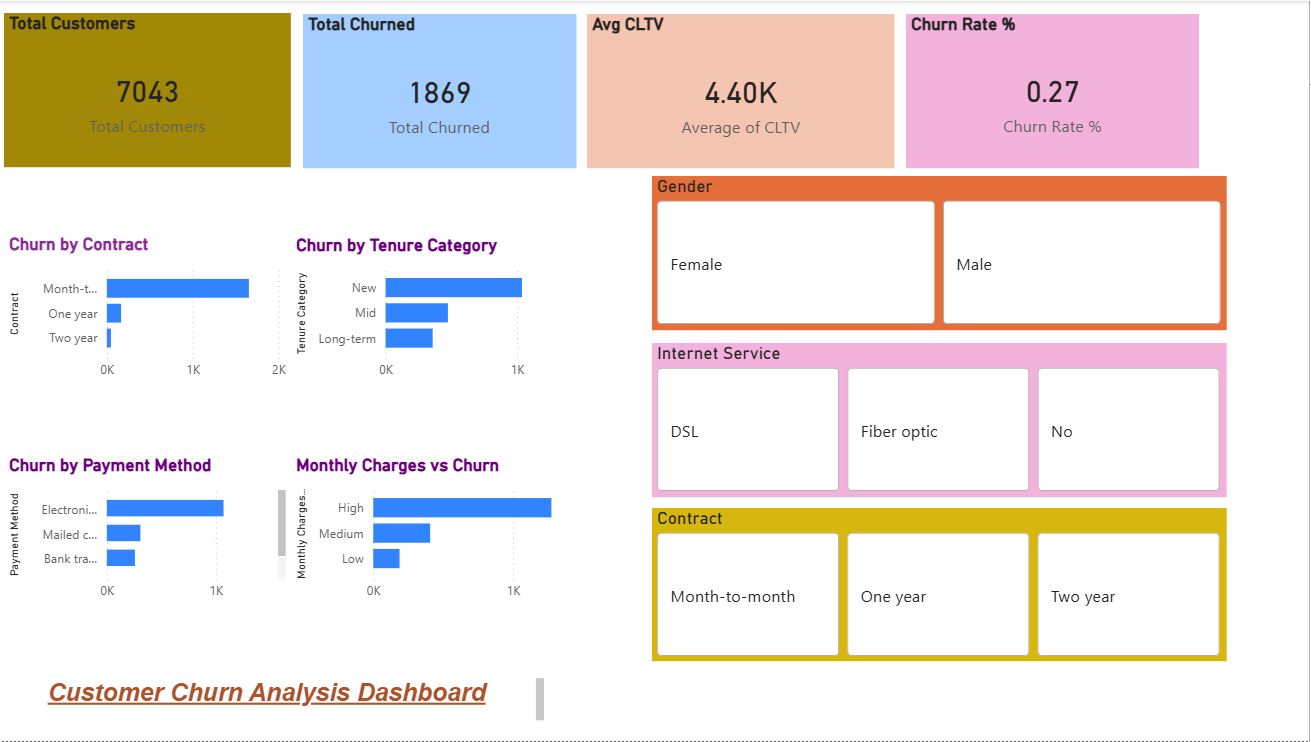

What the dashboard file says about the page in this screenshot:
{"tool":"powerbi","page":{"name":"Customer Churn Analysis Dashboard","canvas":[1280,720],"ordinal":0},"visuals":[{"type":"card","title":"Total Customers","fields":{"Values":["Telco_customer_churn_cleaned.Churn Rate %"]},"box":[11,12,279,150],"z":0},{"type":"barChart","title":"Churn by Contract","fields":{"Y":["Sum(Telco_customer_churn_cleaned.Churn Value)"],"Category":["Telco_customer_churn_cleaned.Contract"]},"box":[11,227,279,150],"z":2000},{"type":"barChart","title":"Churn by Payment Method","fields":{"Y":["Sum(Telco_customer_churn_cleaned.Churn Value)"],"Category":["Telco_customer_churn_cleaned.Payment Method"]},"box":[11,442,279,150],"z":3000},{"type":"barChart","title":"Churn by Tenure Category","fields":{"Y":["Sum(Telco_customer_churn_cleaned.Churn Value)"],"Category":["Telco_customer_churn_cleaned.Tenure Category"]},"box":[289.6,227.3,295.9,149.5],"z":4000},{"type":"barChart","title":"Monthly Charges vs Churn","fields":{"Category":["Telco_customer_churn_cleaned.Monthly Charges Category"],"Y":["Sum(Telco_customer_churn_cleaned.Churn Value)"]},"box":[290,442,296,150],"z":5000},{"type":"advancedSlicerVisual","fields":{"Values":["Telco_customer_churn_cleaned.Gender"]},"box":[641,170.3,559,149.7],"z":7000},{"type":"advancedSlicerVisual","fields":{"Values":["Telco_customer_churn_cleaned.Internet Service"]},"box":[641,332.3,559,149.7],"z":8000},{"type":"advancedSlicerVisual","fields":{"Values":["Telco_customer_churn_cleaned.Contract"]},"box":[640.5,493.1,558.5,149.5],"z":9000},{"type":"card","title":"Avg CLTV","fields":{"Values":["Avg(Telco_customer_churn_cleaned.CLTV)"]},"box":[577.4,12.3,299.5,149.7],"z":9001},{"type":"card","title":"Churn Rate %","fields":{"Values":["Telco_customer_churn_cleaned.Churn Rate %"]},"box":[888.2,12.3,285.1,149.7],"z":9002},{"type":"card","title":"Total Churned","fields":{"Values":["Telco_customer_churn_cleaned.Churn Rate %"]},"box":[301.5,12.3,265.6,149.7],"z":9003},{"type":"textbox","box":[0,653.3,540.5,53.3],"z":9004}]}

Visuals, with their boxes in screenshot pixels (x1, y1, x2, y2), scaled from the page's 1280x720 canvas onto the 1311x742 screenshot:
"Total Customers" card: bbox=(11, 12, 297, 167)
"Churn by Contract" barChart: bbox=(11, 234, 297, 389)
"Churn by Payment Method" barChart: bbox=(11, 456, 297, 610)
"Churn by Tenure Category" barChart: bbox=(297, 234, 600, 388)
"Monthly Charges vs Churn" barChart: bbox=(297, 456, 600, 610)
advancedSlicerVisual - Telco_customer_churn_cleaned.Gender: bbox=(657, 176, 1229, 330)
advancedSlicerVisual - Telco_customer_churn_cleaned.Internet Service: bbox=(657, 342, 1229, 497)
advancedSlicerVisual - Telco_customer_churn_cleaned.Contract: bbox=(656, 508, 1228, 662)
"Avg CLTV" card: bbox=(591, 13, 898, 167)
"Churn Rate %" card: bbox=(910, 13, 1202, 167)
"Total Churned" card: bbox=(309, 13, 581, 167)
textbox: bbox=(0, 673, 554, 728)
